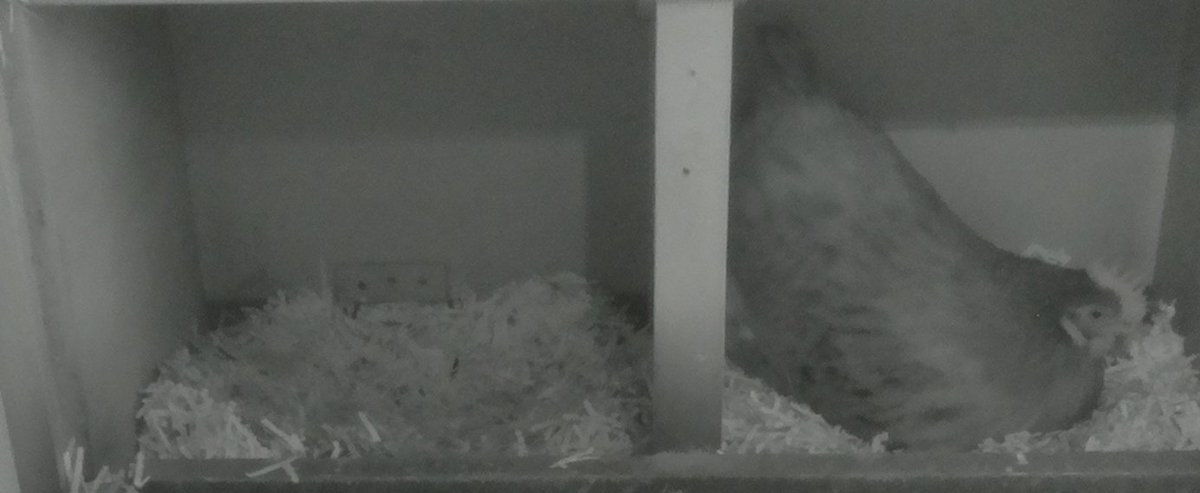hen: (735, 95, 1159, 452)
